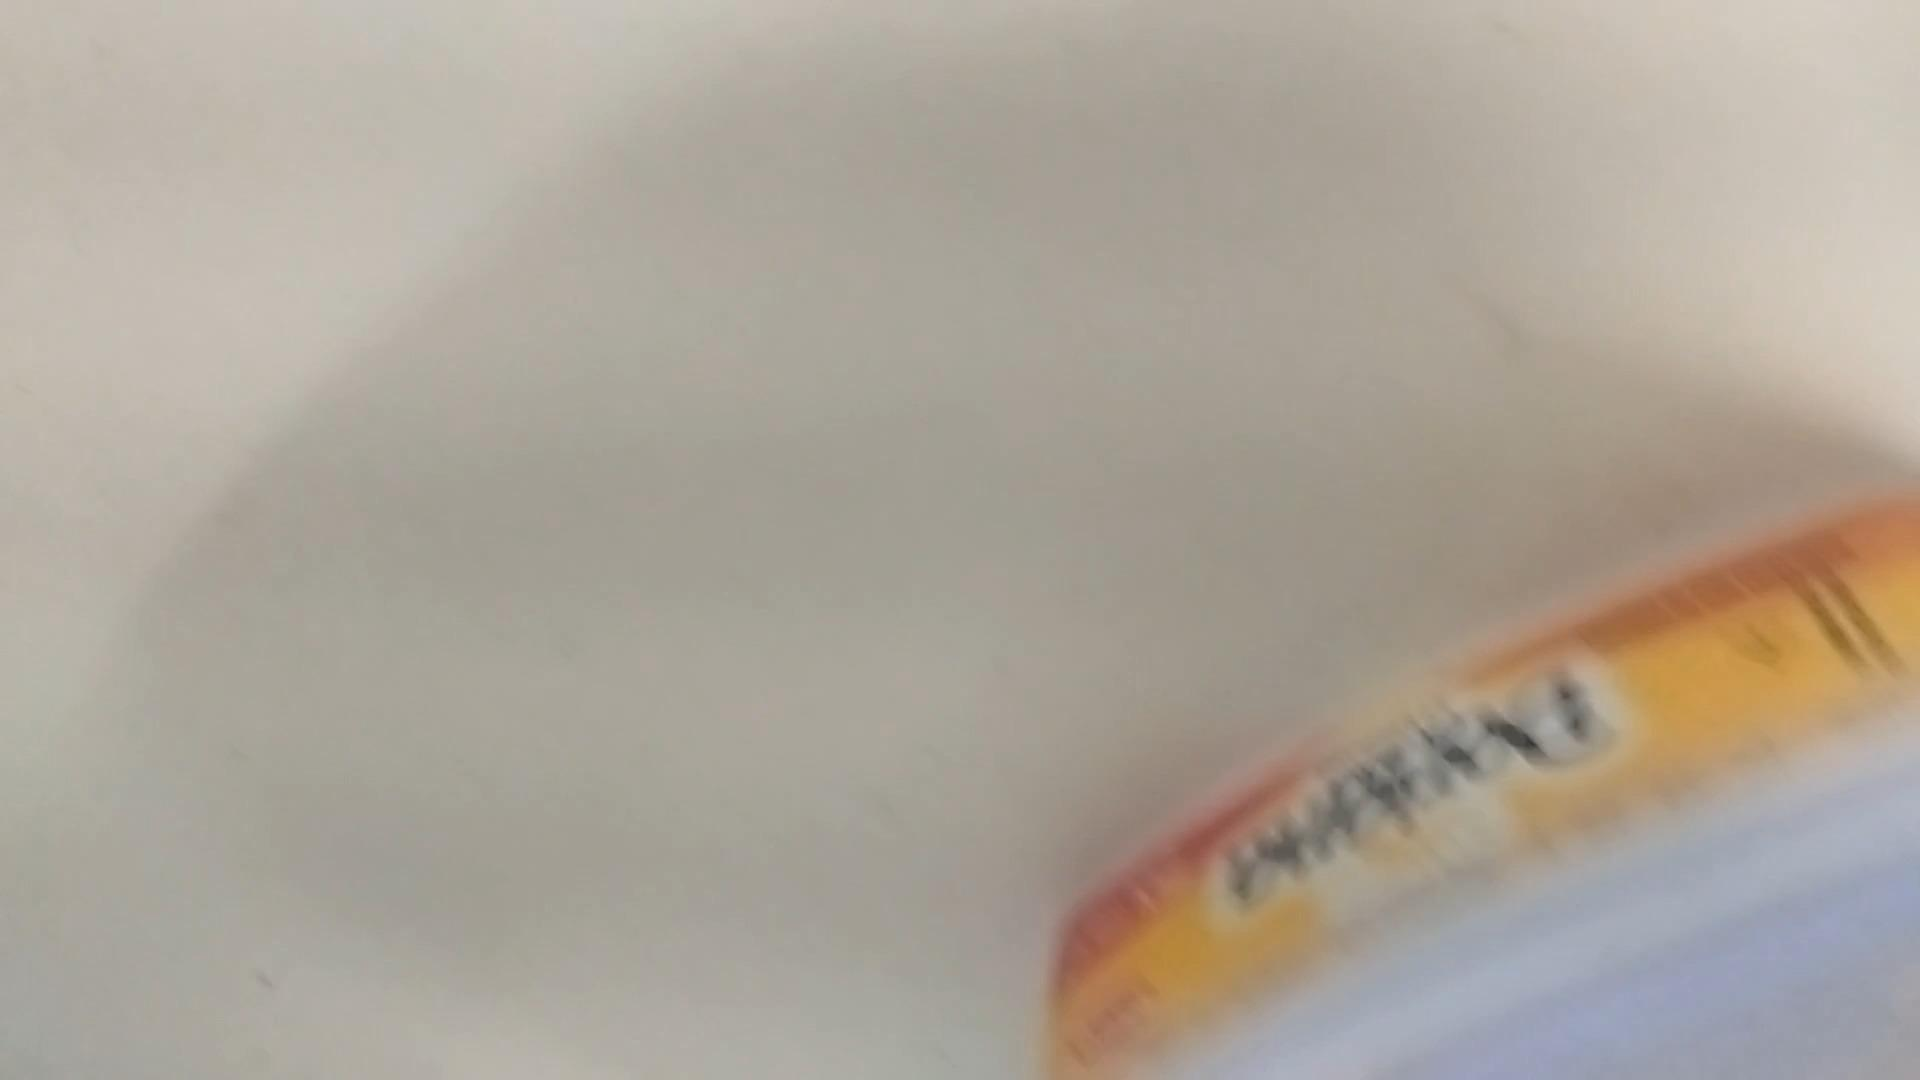butter: (1039, 480, 1920, 1079)
